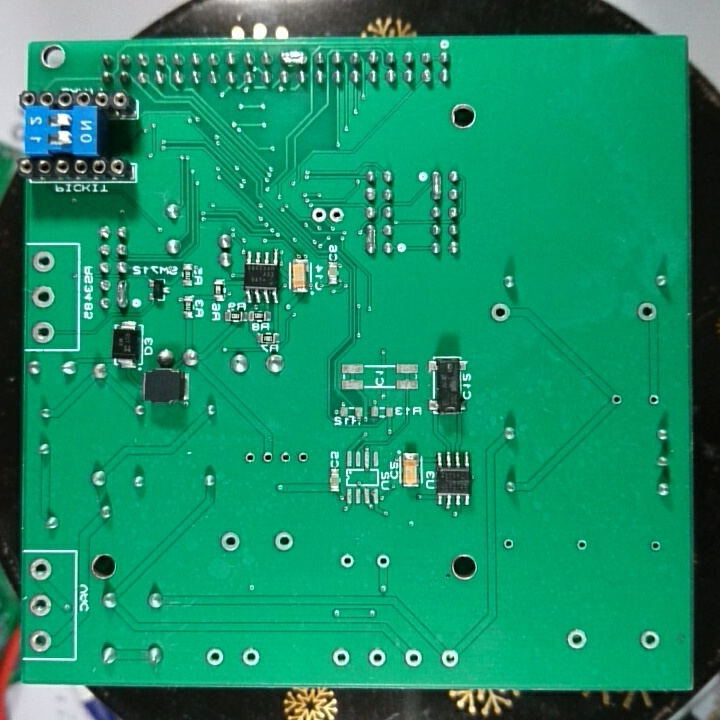F: (28, 318, 57, 346), (25, 556, 53, 584), (29, 282, 57, 310), (29, 247, 57, 275), (27, 592, 54, 621), (563, 626, 590, 654), (25, 628, 54, 654), (634, 299, 661, 325), (271, 527, 296, 555), (638, 627, 662, 655), (488, 299, 513, 325), (437, 646, 462, 672), (217, 530, 242, 555), (402, 645, 424, 673), (365, 644, 388, 670), (239, 646, 263, 669), (329, 645, 351, 670), (203, 646, 227, 668), (338, 551, 357, 574), (309, 204, 328, 227), (328, 202, 345, 227), (572, 535, 591, 557), (258, 446, 278, 466), (373, 552, 392, 573), (277, 447, 295, 469), (499, 535, 516, 554), (294, 448, 311, 467), (242, 449, 259, 468), (609, 390, 624, 409), (647, 392, 662, 409), (648, 538, 662, 554)
P: (278, 48, 309, 67), (428, 167, 445, 201), (114, 278, 131, 312), (363, 222, 378, 256)
